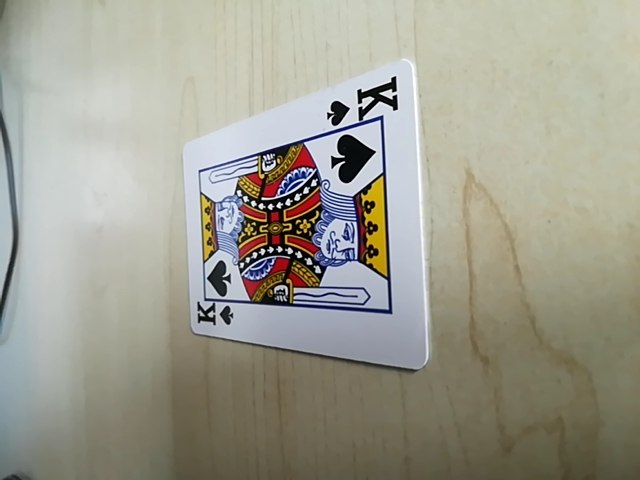ht k: (322, 79, 407, 127), (187, 295, 237, 332)
